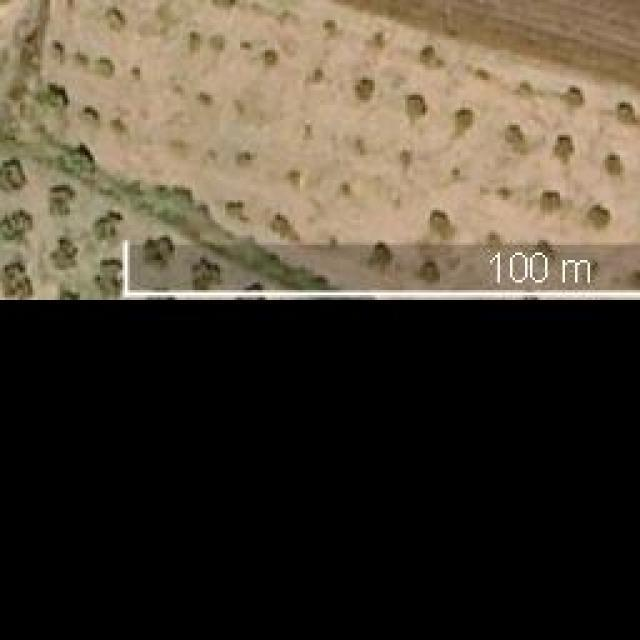Tree: (57, 143, 95, 188), (35, 83, 70, 128), (185, 257, 223, 295), (0, 252, 32, 297), (0, 210, 32, 247), (143, 232, 173, 270), (0, 155, 28, 195), (95, 258, 123, 298), (93, 210, 123, 245), (50, 238, 78, 271), (425, 210, 453, 243), (550, 88, 585, 113), (505, 125, 533, 155), (368, 240, 393, 273), (50, 185, 75, 215), (415, 258, 443, 283), (553, 135, 576, 165), (90, 55, 118, 78), (420, 45, 445, 68), (540, 190, 563, 215), (105, 8, 130, 31), (455, 107, 475, 135), (405, 95, 428, 118), (617, 102, 640, 125), (588, 205, 611, 228), (510, 75, 533, 98), (270, 213, 290, 238), (225, 203, 248, 223), (305, 65, 328, 85), (323, 18, 343, 41), (210, 33, 230, 53), (355, 80, 373, 100), (262, 45, 280, 65), (195, 87, 215, 105), (238, 150, 258, 168), (285, 165, 300, 185), (472, 65, 490, 80)
